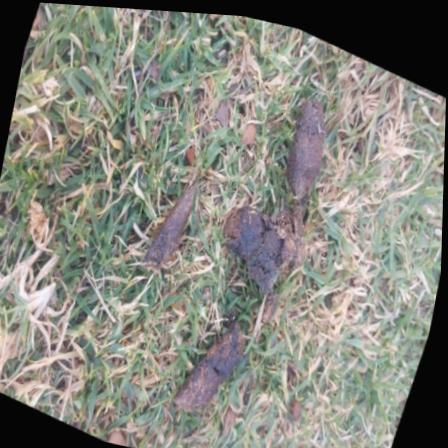dog-poop: (179, 78, 351, 439), (132, 174, 208, 286)
